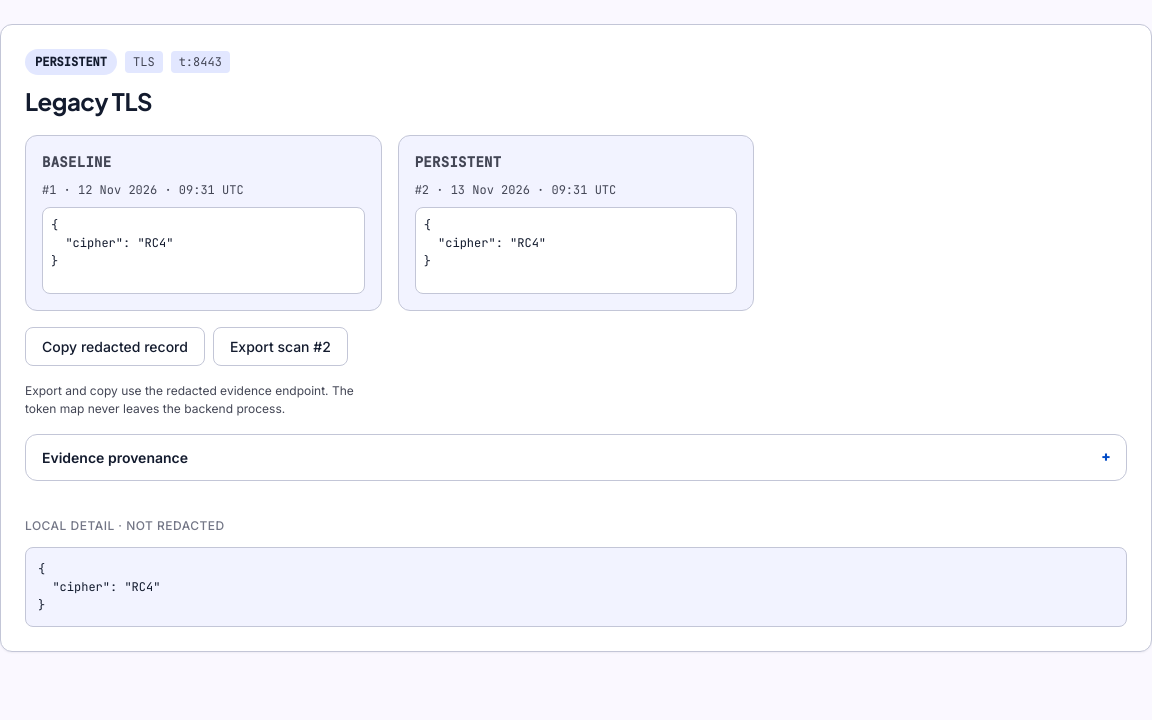
EvidenceDetail › keeps provenance collapsed until opened and shows only stored fields
Click the heading "Evidence provenance" at (115, 458), box [42,449,188,466]
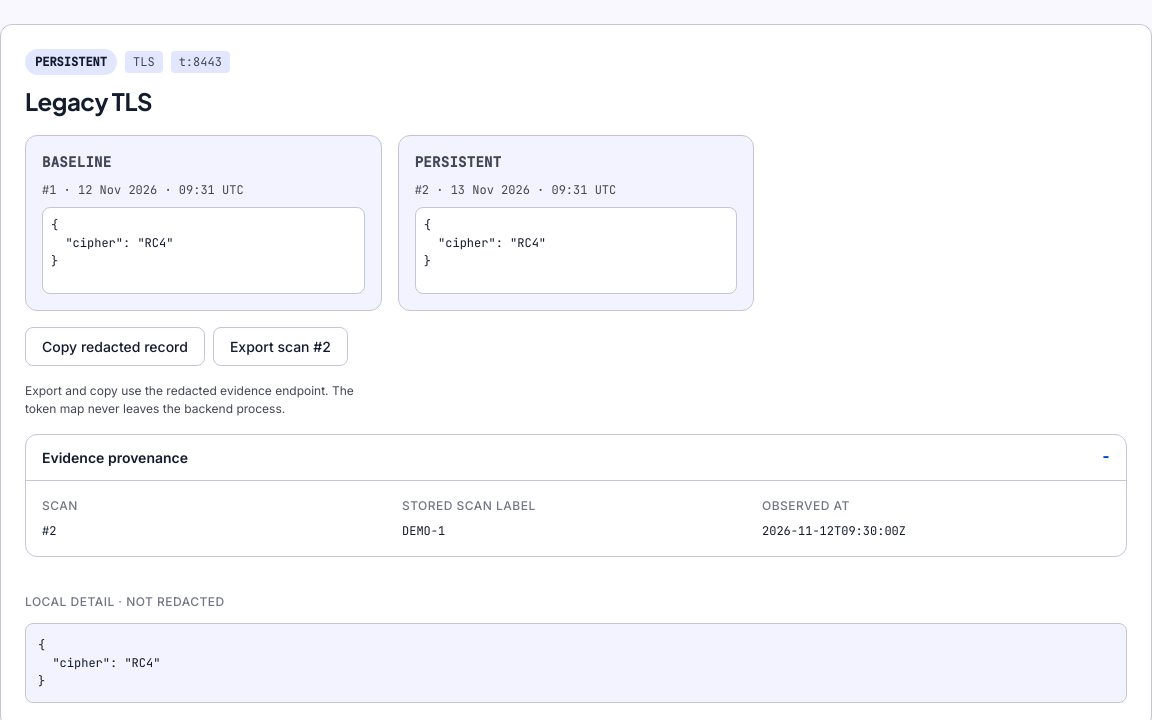
Result: the text "#2" is shown at [42,523,56,539]
Result: the text "DEMO-1" is shown at [402,523,445,539]
Result: the text "2026-11-12T09:30:00Z" is shown at [762,523,906,539]
